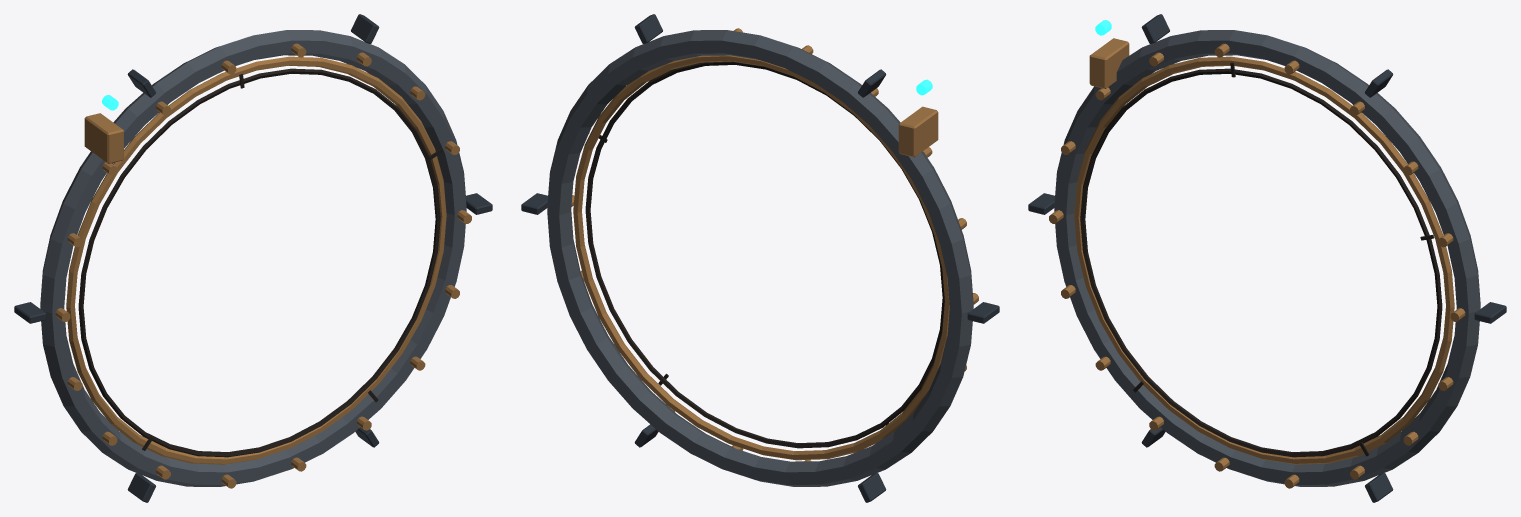
File: runtime.glb
The picture shows the model from 3 angles, left to right: view 1: azimuth 30°, elevation 25°; view 2: azimuth 150°, elevation 25°; view 3: azimuth 330°, elevation 25°; orthographic projection.
Parts seen in each view (by area): view 1: kinetic-tide-bearing-flange-v03_plate_nocol, kinetic-tide-bearing-flange-v03_bronze_nocol, kinetic-tide-bearing-flange-v03_weardark_nocol, kinetic-tide-bearing-flange-v03_steel_nocol; view 2: kinetic-tide-bearing-flange-v03_plate_nocol, kinetic-tide-bearing-flange-v03_bronze_nocol, kinetic-tide-bearing-flange-v03_weardark_nocol, kinetic-tide-bearing-flange-v03_steel_nocol; view 3: kinetic-tide-bearing-flange-v03_plate_nocol, kinetic-tide-bearing-flange-v03_bronze_nocol, kinetic-tide-bearing-flange-v03_weardark_nocol, kinetic-tide-bearing-flange-v03_steel_nocol.
Boxes of the visible parts, x1=… form: kinetic-tide-bearing-flange-v03_plate_nocol: x1=40, y1=30, x2=466, y2=486; kinetic-tide-bearing-flange-v03_bronze_nocol: x1=55, y1=43, x2=471, y2=488; kinetic-tide-bearing-flange-v03_weardark_nocol: x1=78, y1=68, x2=442, y2=457; kinetic-tide-bearing-flange-v03_steel_nocol: x1=14, y1=14, x2=492, y2=502; kinetic-tide-bearing-flange-v03_plate_nocol: x1=547, y1=30, x2=973, y2=486; kinetic-tide-bearing-flange-v03_bronze_nocol: x1=571, y1=28, x2=978, y2=461; kinetic-tide-bearing-flange-v03_weardark_nocol: x1=585, y1=61, x2=944, y2=448; kinetic-tide-bearing-flange-v03_steel_nocol: x1=521, y1=14, x2=999, y2=502; kinetic-tide-bearing-flange-v03_plate_nocol: x1=1054, y1=30, x2=1480, y2=486; kinetic-tide-bearing-flange-v03_bronze_nocol: x1=1049, y1=38, x2=1465, y2=488; kinetic-tide-bearing-flange-v03_weardark_nocol: x1=1080, y1=62, x2=1442, y2=457; kinetic-tide-bearing-flange-v03_steel_nocol: x1=1028, y1=14, x2=1506, y2=502.
Size of the model in its own units: 11.3 by 10.4 by 1.03.
